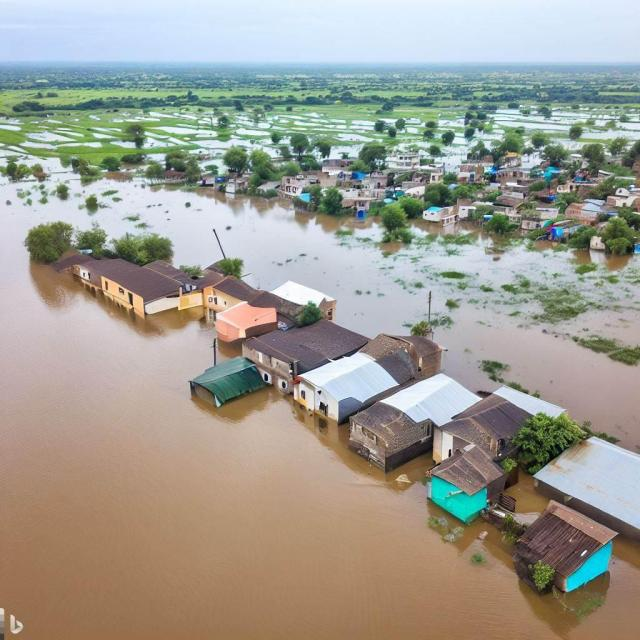flood: (0, 161, 640, 640), (436, 109, 640, 169), (143, 126, 277, 164), (0, 118, 101, 167), (231, 109, 376, 132), (329, 130, 380, 158), (396, 133, 440, 157), (522, 150, 544, 168), (110, 139, 134, 148), (381, 118, 397, 124), (407, 118, 422, 124)
house: (527, 430, 638, 552), (437, 386, 565, 481), (241, 318, 369, 398), (372, 368, 490, 452), (517, 507, 622, 596), (69, 249, 194, 323), (300, 353, 404, 428), (427, 446, 505, 528), (357, 405, 433, 476), (187, 354, 272, 415), (270, 278, 338, 323), (216, 299, 280, 344), (204, 274, 258, 313), (498, 166, 529, 185), (426, 206, 456, 225), (394, 154, 424, 172), (284, 176, 308, 195)
